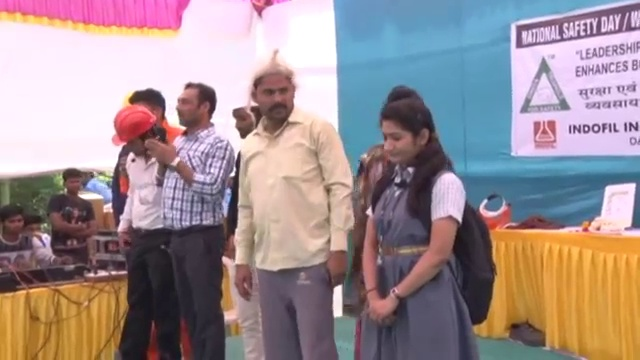helmet: (113, 107, 156, 147)
helmet_off: (381, 96, 437, 164), (244, 65, 299, 126), (169, 81, 218, 134), (130, 88, 167, 125), (0, 202, 25, 245), (230, 100, 257, 138), (60, 170, 84, 196), (24, 215, 43, 242)
helmet_on: (113, 108, 168, 160)
person: (224, 56, 362, 360), (354, 95, 496, 360), (144, 79, 234, 360), (112, 106, 184, 360), (221, 99, 267, 360), (0, 201, 72, 274), (47, 168, 95, 263), (84, 172, 112, 203)
